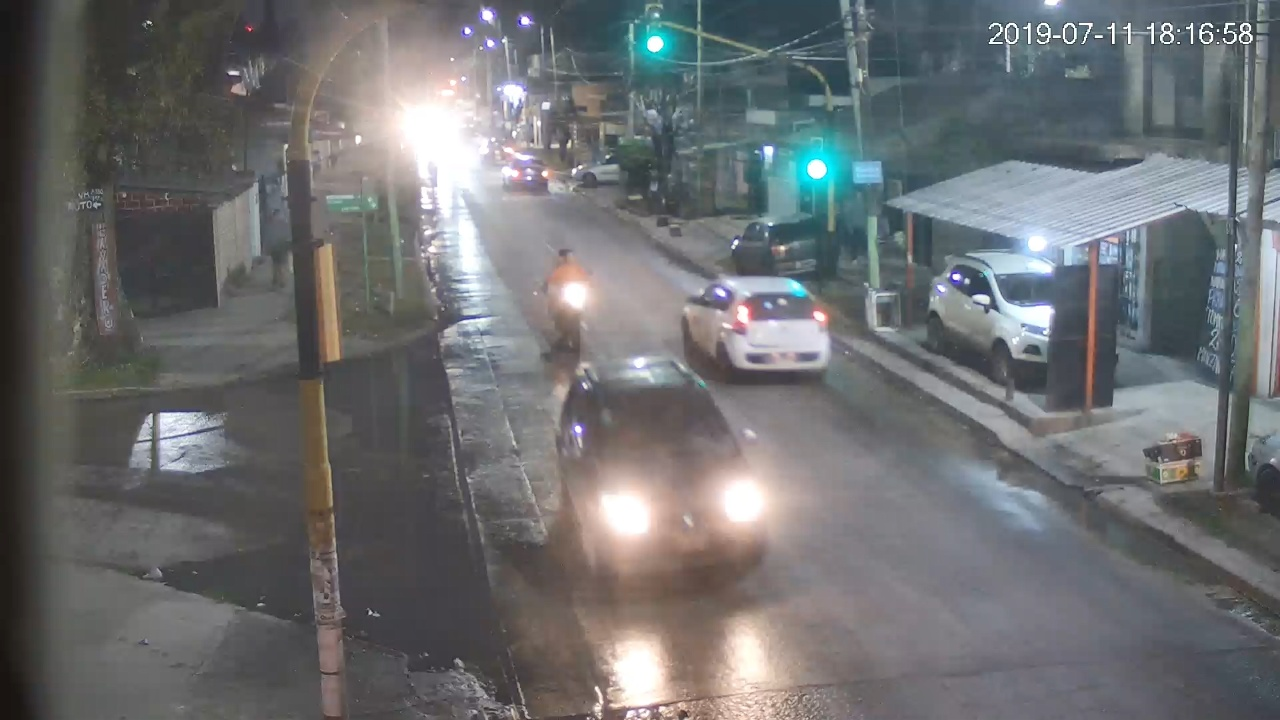car: (680, 276, 831, 374)
front car: (557, 358, 764, 586)
front motorcycle: (539, 264, 595, 354)
traffic light: (644, 4, 665, 54), (809, 137, 824, 179)
